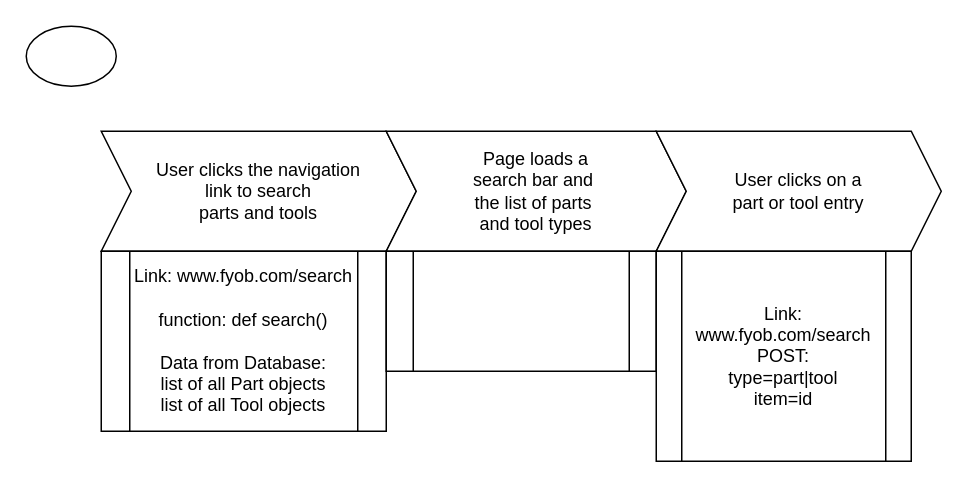
The diagram is 968 pixels wide and 488 high, and some of its shapes have lost their labels. Each missing label, with the box of its shape:
JavaScript-based search to refine list: (385, 250, 656, 371)
Start: (25, 25, 116, 86)
